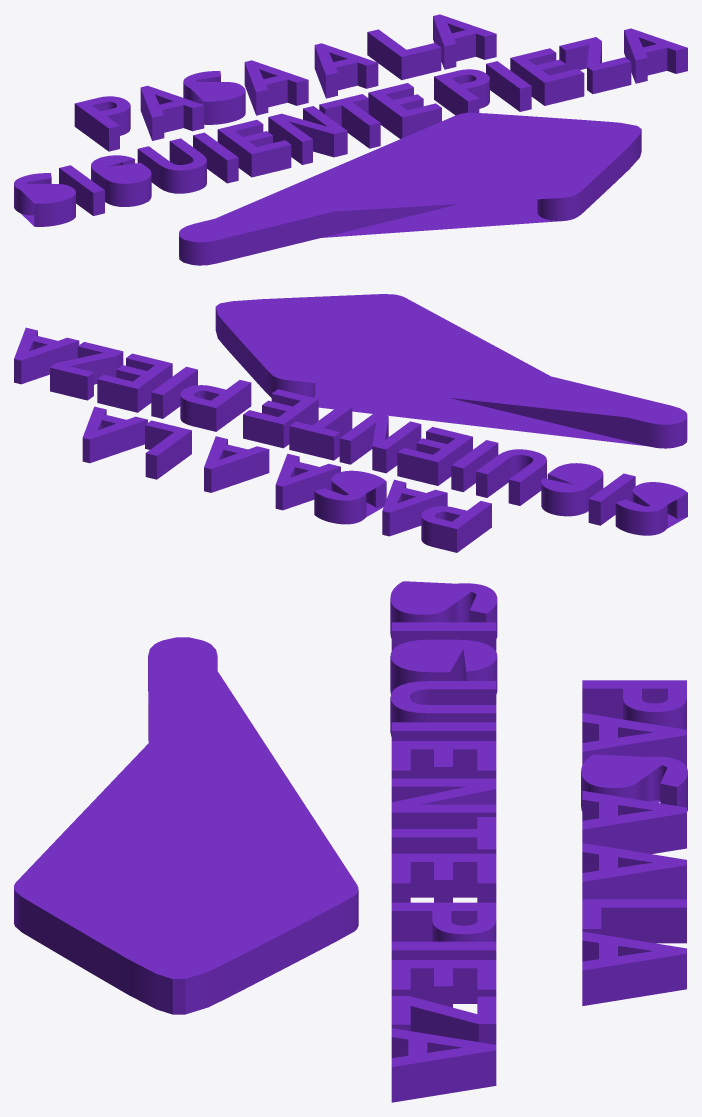
Rendered from flecha.obj.
3 renders of one model, top to bottom at view 1: azimuth 30°, elevation 25°; view 2: azimuth 150°, elevation 25°; view 3: azimuth 270°, elevation 25°, orthographic. The views are drawn at different scales.
Bounding box in the file's own units: 64.83 × 2.21 × 38.
